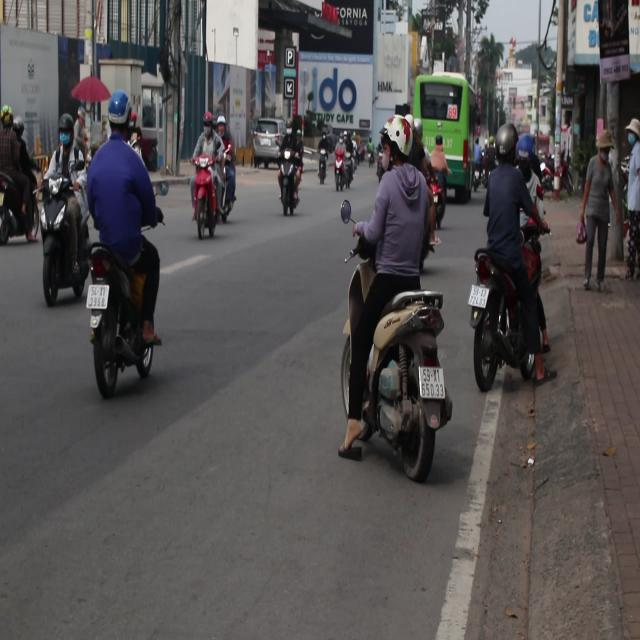bus: (414, 74, 478, 200)
car: (251, 118, 286, 166)
motorbike: (331, 266, 441, 480), (449, 247, 561, 410), (92, 234, 154, 401), (38, 174, 89, 306), (0, 151, 44, 246), (192, 152, 220, 250), (275, 138, 302, 228), (211, 153, 241, 227), (315, 132, 332, 187), (330, 157, 352, 199), (342, 153, 358, 184)
